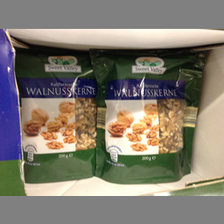nuts: (88, 48, 211, 184), (12, 46, 102, 184)
